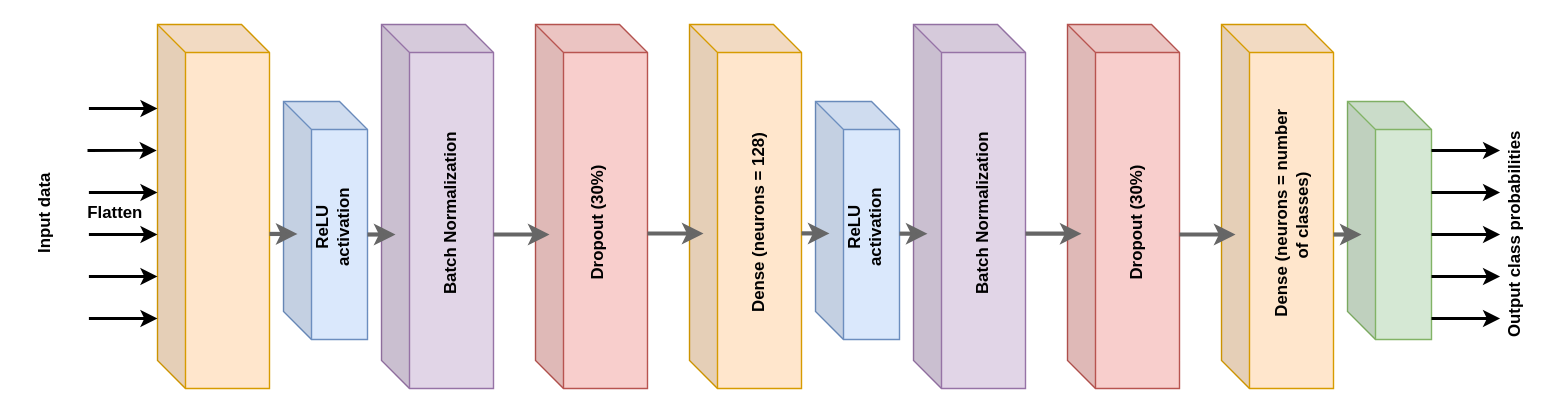
Some shapes in this 1560 by 413 pixel diagram are drawn without their labels. Each missing label, with the box of its shape:
Dense (neurons = 256): (156, 23, 270, 388)
Softmax activation: (1346, 100, 1432, 340)
